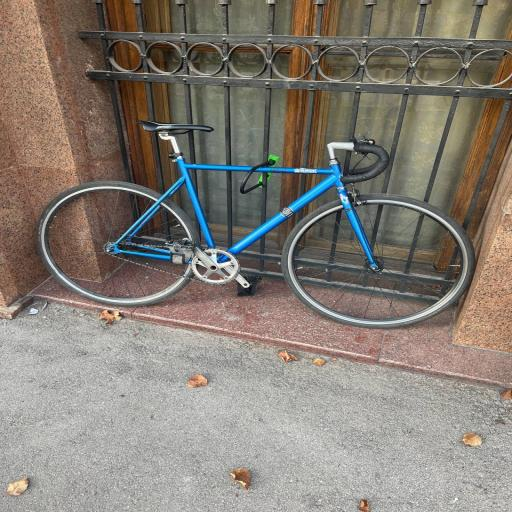bag: (38, 122, 474, 327)
